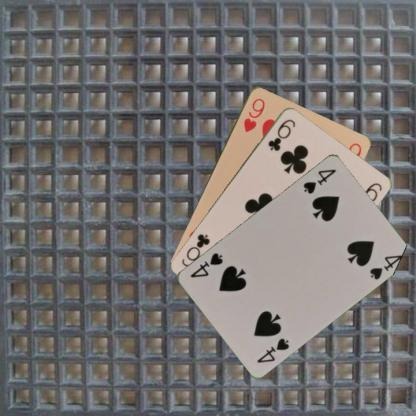4s: (300, 166, 338, 195), (254, 335, 291, 364)
6c: (265, 116, 297, 152)
9h: (240, 96, 266, 134)
